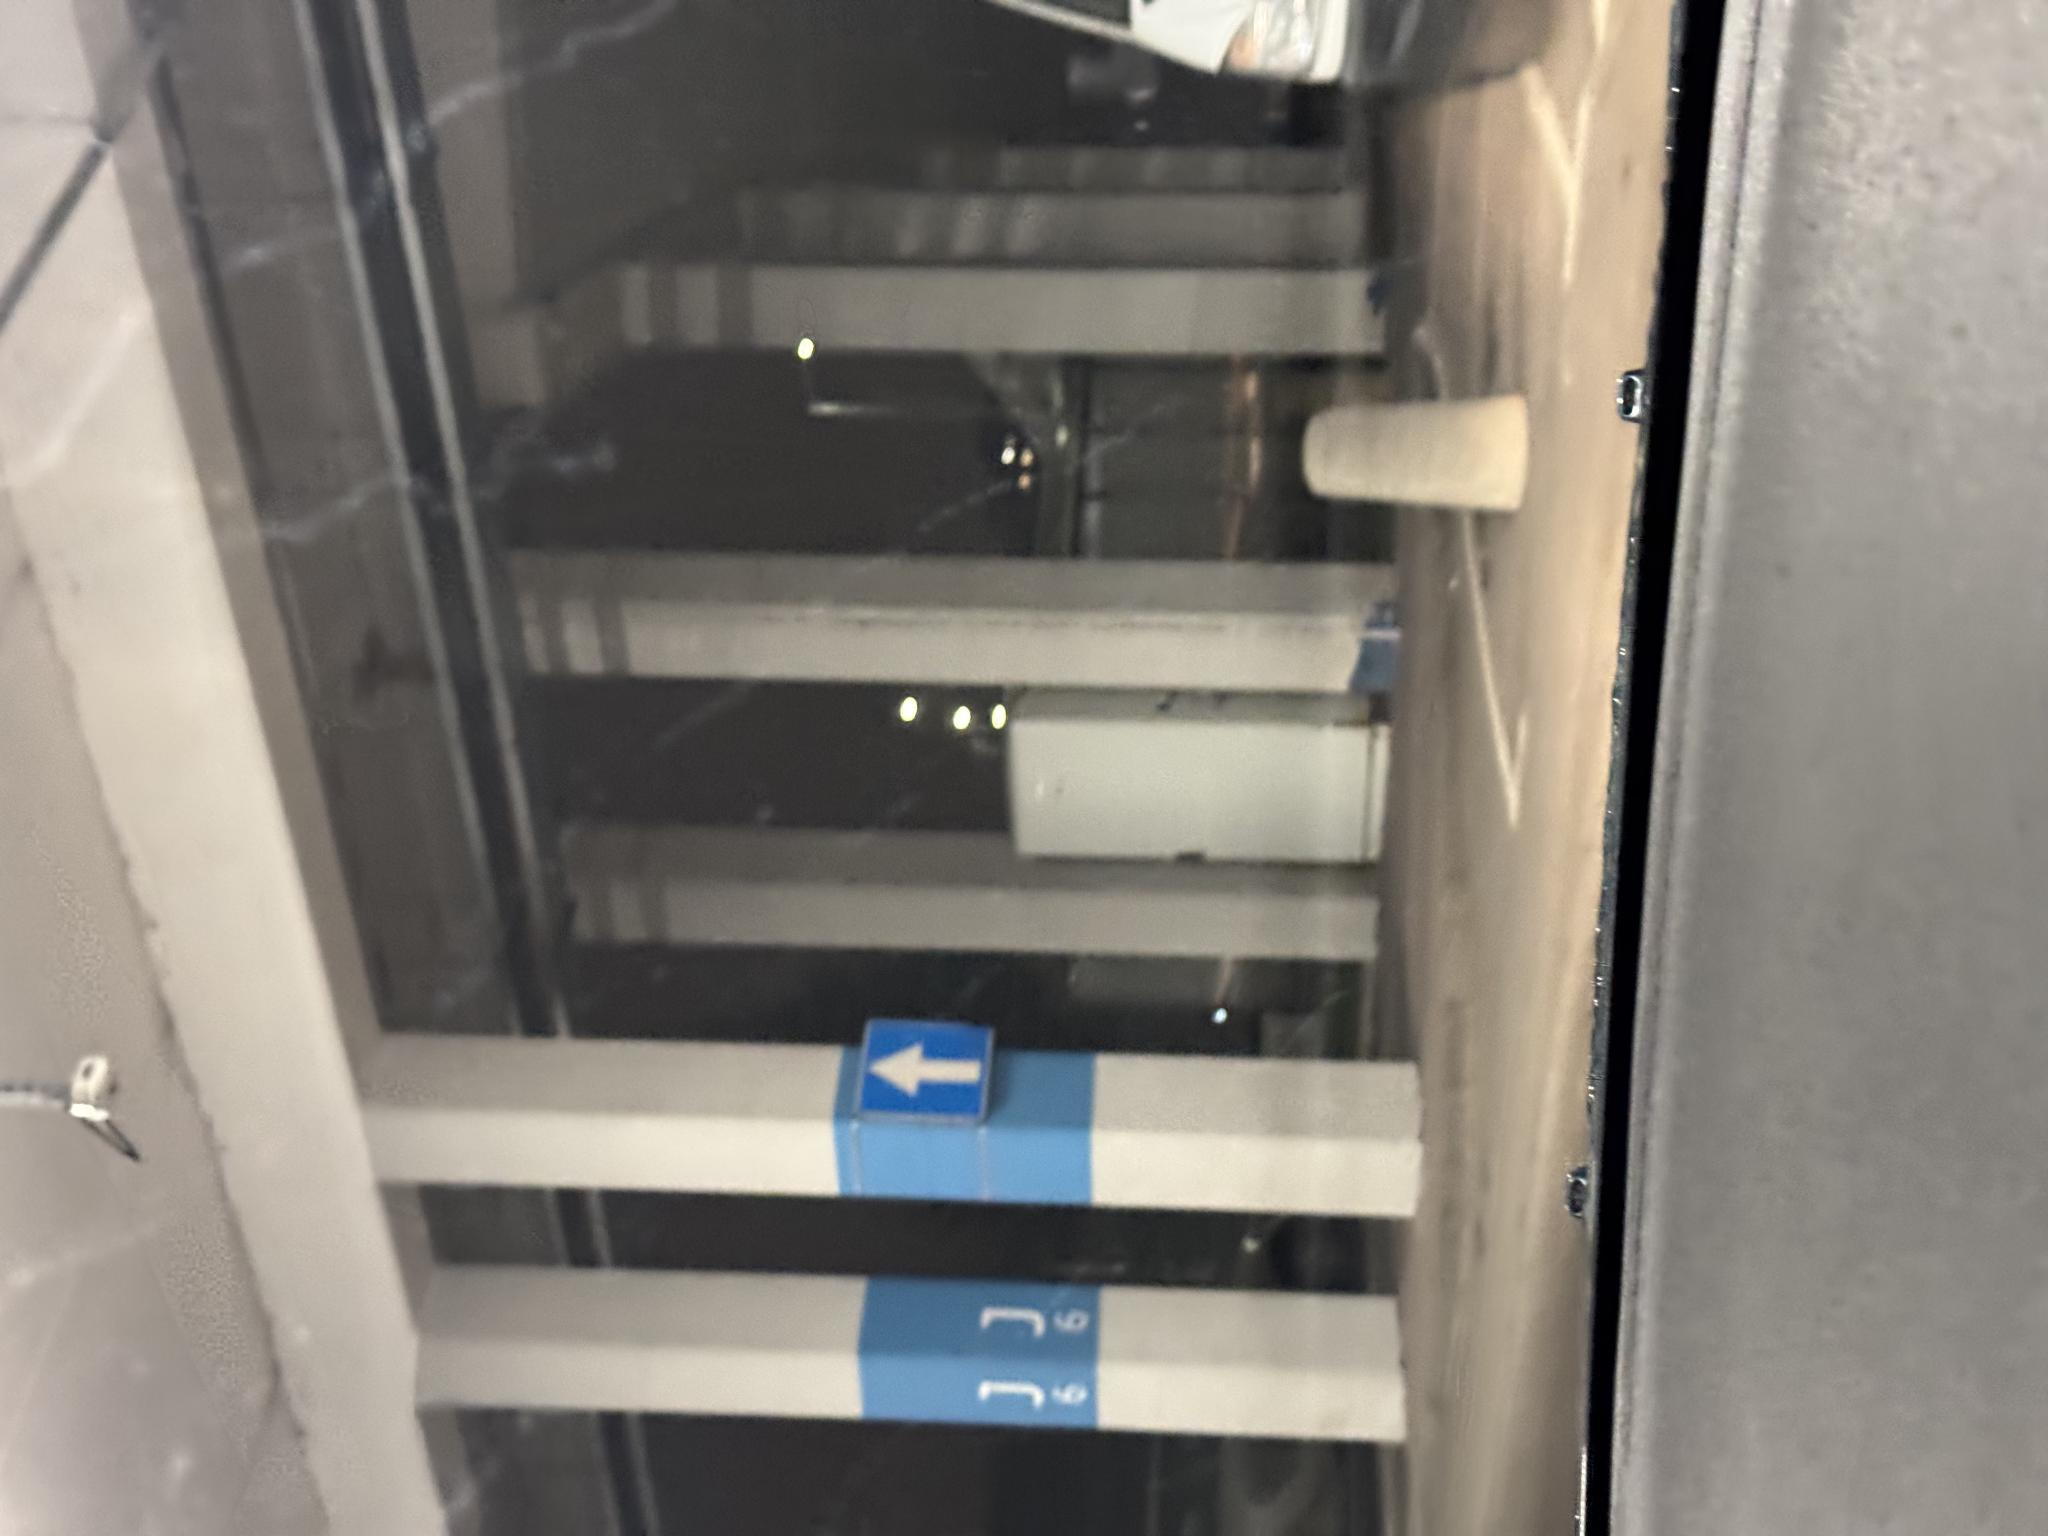information: (410, 850, 518, 999)
